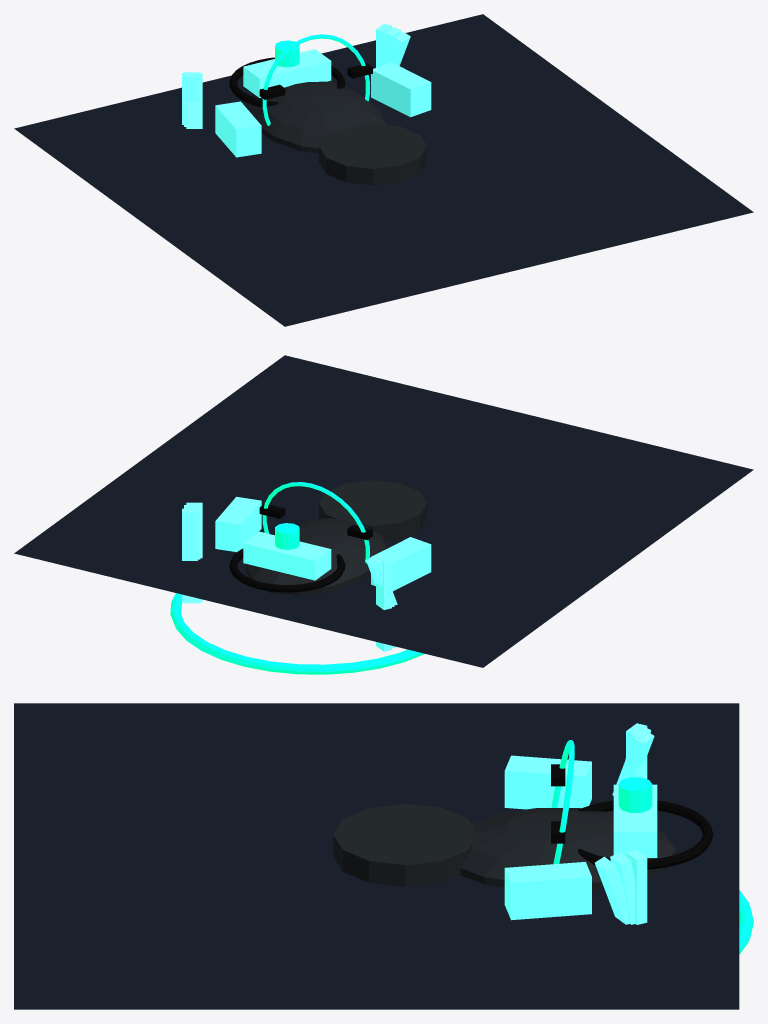
Rendered from avatar_mnd_bi.glb.
3 renders of one model, top to bottom at view 1: azimuth 30°, elevation 25°; view 2: azimuth 150°, elevation 25°; view 3: azimuth 270°, elevation 25°, orthographic. The views are drawn at different scales.
Parts seen in each view (by area): view 1: SOL, MASQUE, SOCLE, JOUE_D, FRONT, JOUE_G, LISERE, ANNEAU_KANJI, SIG_RUBAN_G2; view 2: SOL, SOCLE, MASQUE, ANNEAU_MND, FRONT, JOUE_D, JOUE_G, ANNEAU_KANJI, SIG_RUBAN_D0, LISERE, SIG_RUBAN_G0, POINT_MND; view 3: SOL, SOCLE, MASQUE, JOUE_D, JOUE_G, FRONT, ANNEAU_KANJI, SIG_RUBAN_D2, POINT_MND, SIG_RUBAN_D0, LISERE, SIG_RUBAN_D1 (+2 smaller).
Part boxes in pixels (left/top/right/bottom): SOL: left=14, top=14, right=753, bottom=326; MASQUE: left=246, top=81, right=386, bottom=153; SOCLE: left=319, top=123, right=427, bottom=185; JOUE_D: left=371, top=62, right=431, bottom=117; FRONT: left=243, top=49, right=331, bottom=97; JOUE_G: left=215, top=101, right=261, bottom=157; LISERE: left=262, top=34, right=369, bottom=125; ANNEAU_KANJI: left=229, top=57, right=345, bottom=107; SIG_RUBAN_G2: left=186, top=73, right=202, bottom=128; SOL: left=14, top=355, right=753, bottom=667; SOCLE: left=319, top=480, right=427, bottom=540; MASQUE: left=246, top=518, right=386, bottom=595; ANNEAU_MND: left=170, top=593, right=424, bottom=674; FRONT: left=243, top=531, right=331, bottom=580; JOUE_D: left=215, top=496, right=261, bottom=552; JOUE_G: left=371, top=537, right=431, bottom=591; ANNEAU_KANJI: left=229, top=548, right=345, bottom=592; SIG_RUBAN_D0: left=182, top=508, right=197, bottom=602; LISERE: left=262, top=482, right=369, bottom=563; SIG_RUBAN_G0: left=376, top=554, right=391, bottom=651; POINT_MND: left=275, top=523, right=299, bottom=549; SOL: left=14, top=703, right=739, bottom=1009; SOCLE: left=333, top=804, right=474, bottom=886; MASQUE: left=460, top=808, right=675, bottom=890; JOUE_D: left=504, top=862, right=591, bottom=920; JOUE_G: left=504, top=755, right=591, bottom=809; FRONT: left=613, top=784, right=657, bottom=857; ANNEAU_KANJI: left=578, top=800, right=713, bottom=869; SIG_RUBAN_D2: left=595, top=856, right=629, bottom=924; POINT_MND: left=618, top=777, right=652, bottom=812; SIG_RUBAN_D0: left=626, top=850, right=647, bottom=924; LISERE: left=551, top=740, right=574, bottom=864; SIG_RUBAN_D1: left=610, top=852, right=635, bottom=924.
Bounding box in the file's own units: 6 × 1.65 × 6.12.
